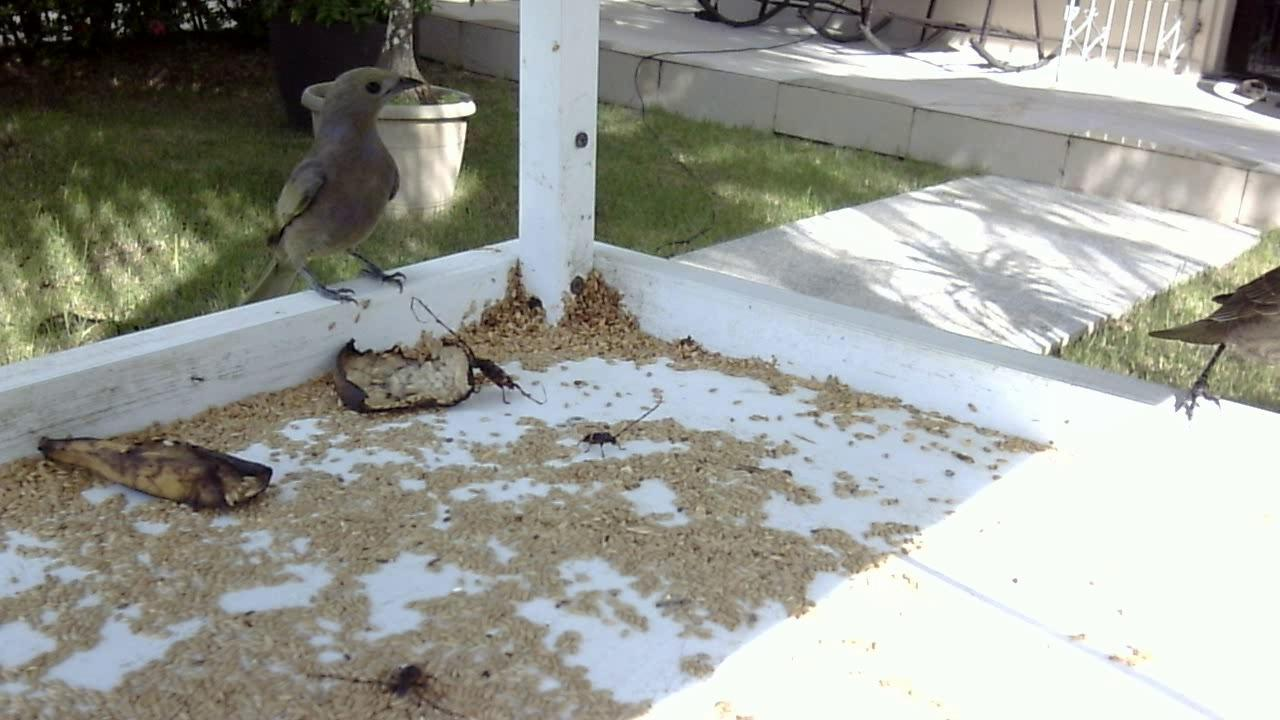chupim: (1130, 223, 1276, 428)
sanhaco_do_coqueiro: (238, 59, 428, 319)
